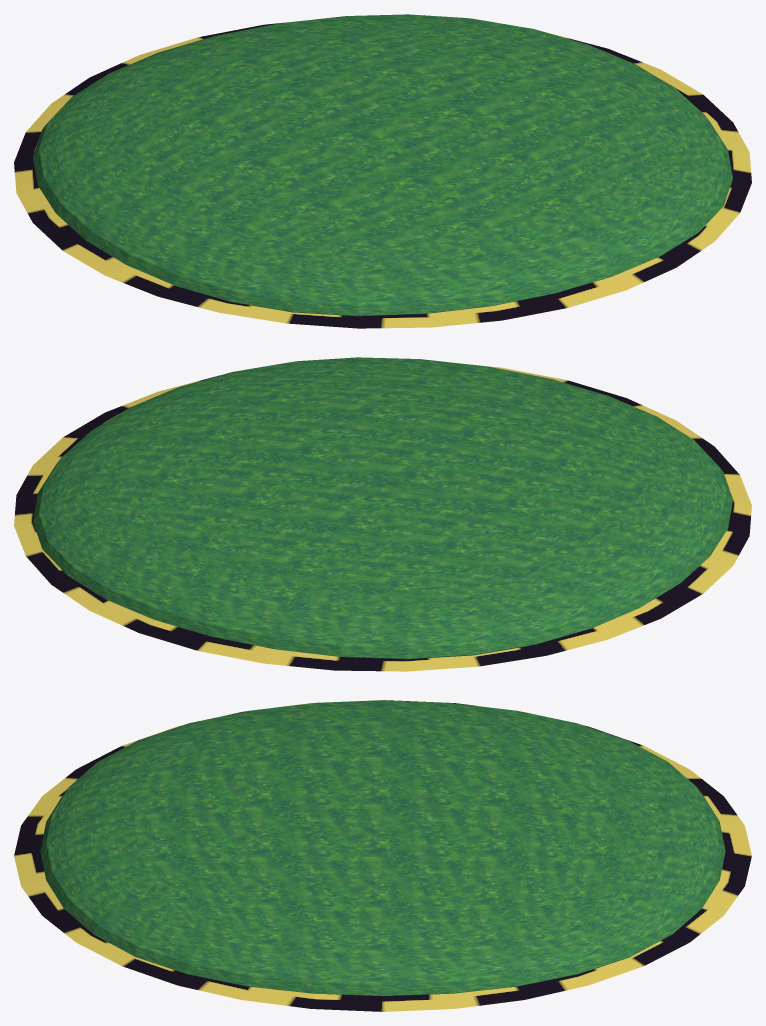
File: hubWorld.glb
3 renders of one model, top to bottom at view 1: azimuth 30°, elevation 25°; view 2: azimuth 150°, elevation 25°; view 3: azimuth 270°, elevation 25°, orthographic.
Visible parts, largest first — view 1: Top, Edge; view 2: Top, Edge; view 3: Top, Edge.
Part boxes in pixels (x1,y1,x2,y2): Top: (33,14,732,316); Edge: (14,22,751,328); Top: (33,357,732,659); Edge: (14,365,751,671); Top: (40,700,725,995); Edge: (14,700,751,1011).
Bounding box in the file's own units: 1.81 × 0.468 × 1.81.
Materials: 3 (3 with a texture image).
